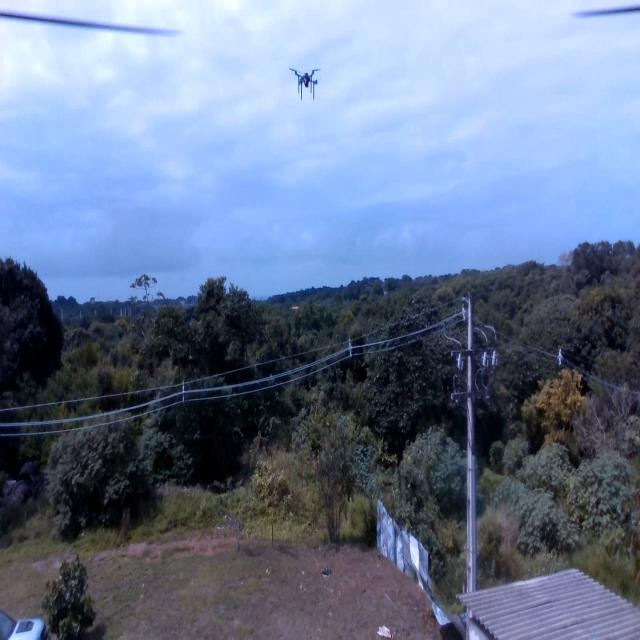-uav-: (282, 56, 328, 107)
